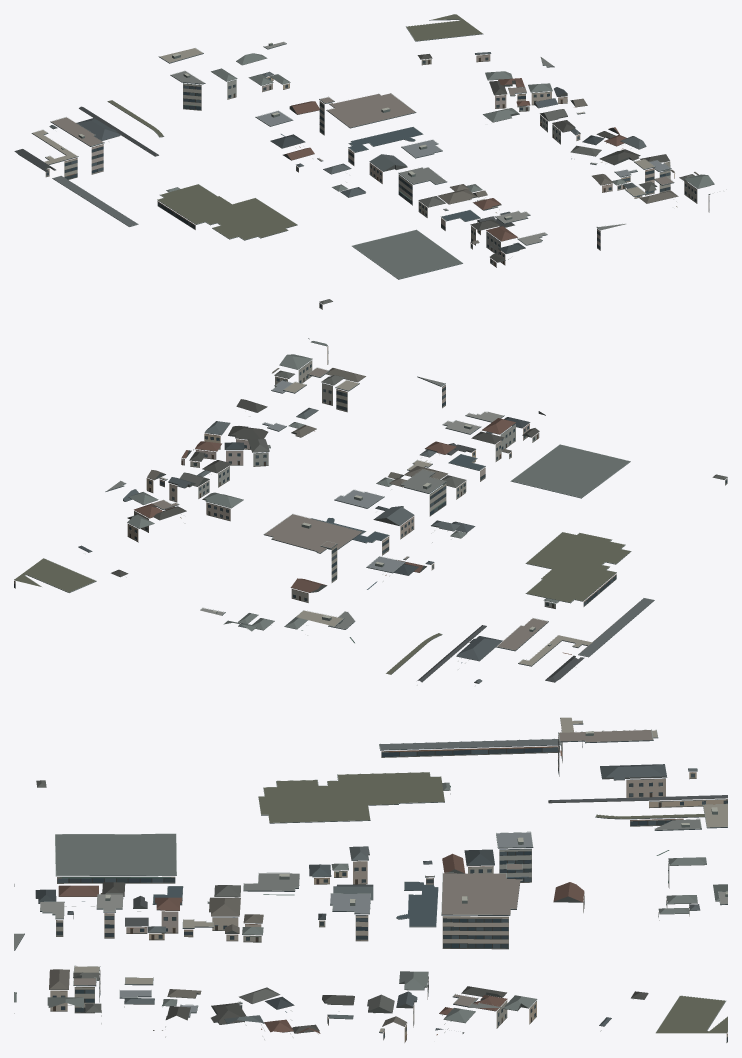
3 views of the same model, one above another, from view 1: azimuth 30°, elevation 25°; view 2: azimuth 150°, elevation 25°; view 3: azimuth 270°, elevation 25° (orthographic). The views are drawn at different scales.
Visible parts, largest first — view 1: r4-c4; view 2: r4-c4; view 3: r4-c4.
Boxes of the visible parts, x1,y1,x2,y2 form: r4-c4: (14,14,714,309); r4-c4: (14,338,727,685); r4-c4: (14,717,727,1042).
Size of the model in its own units: 250 by 21.17 by 250.
